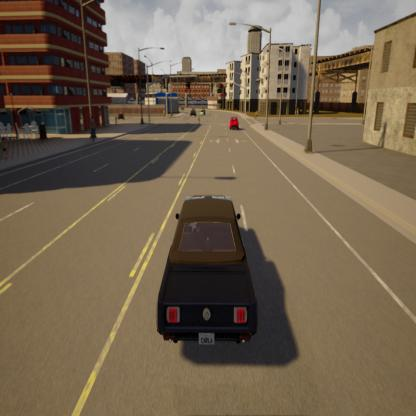Cars: (150, 159, 273, 368), (225, 111, 242, 135), (116, 106, 128, 124), (188, 105, 198, 120), (198, 104, 207, 118)
Pedestrian: (83, 105, 100, 151), (0, 121, 8, 168), (295, 103, 301, 123)
